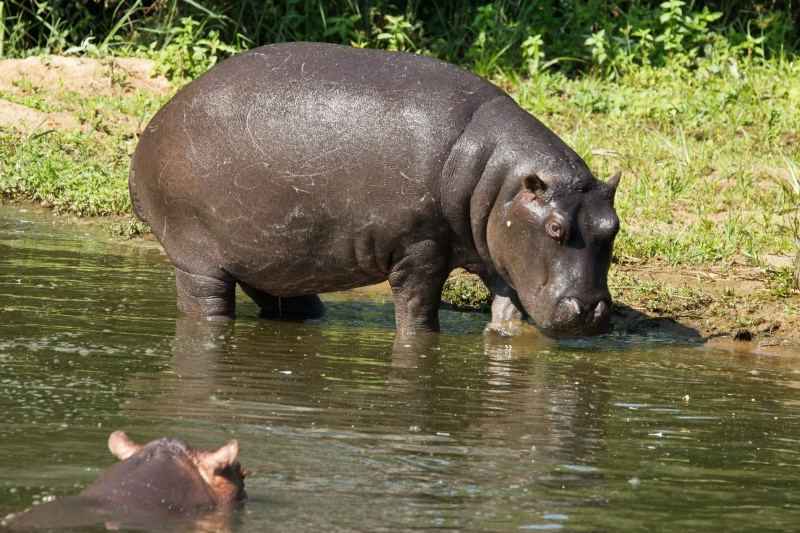hipopotamo: (117, 32, 619, 366), (6, 424, 250, 533)
